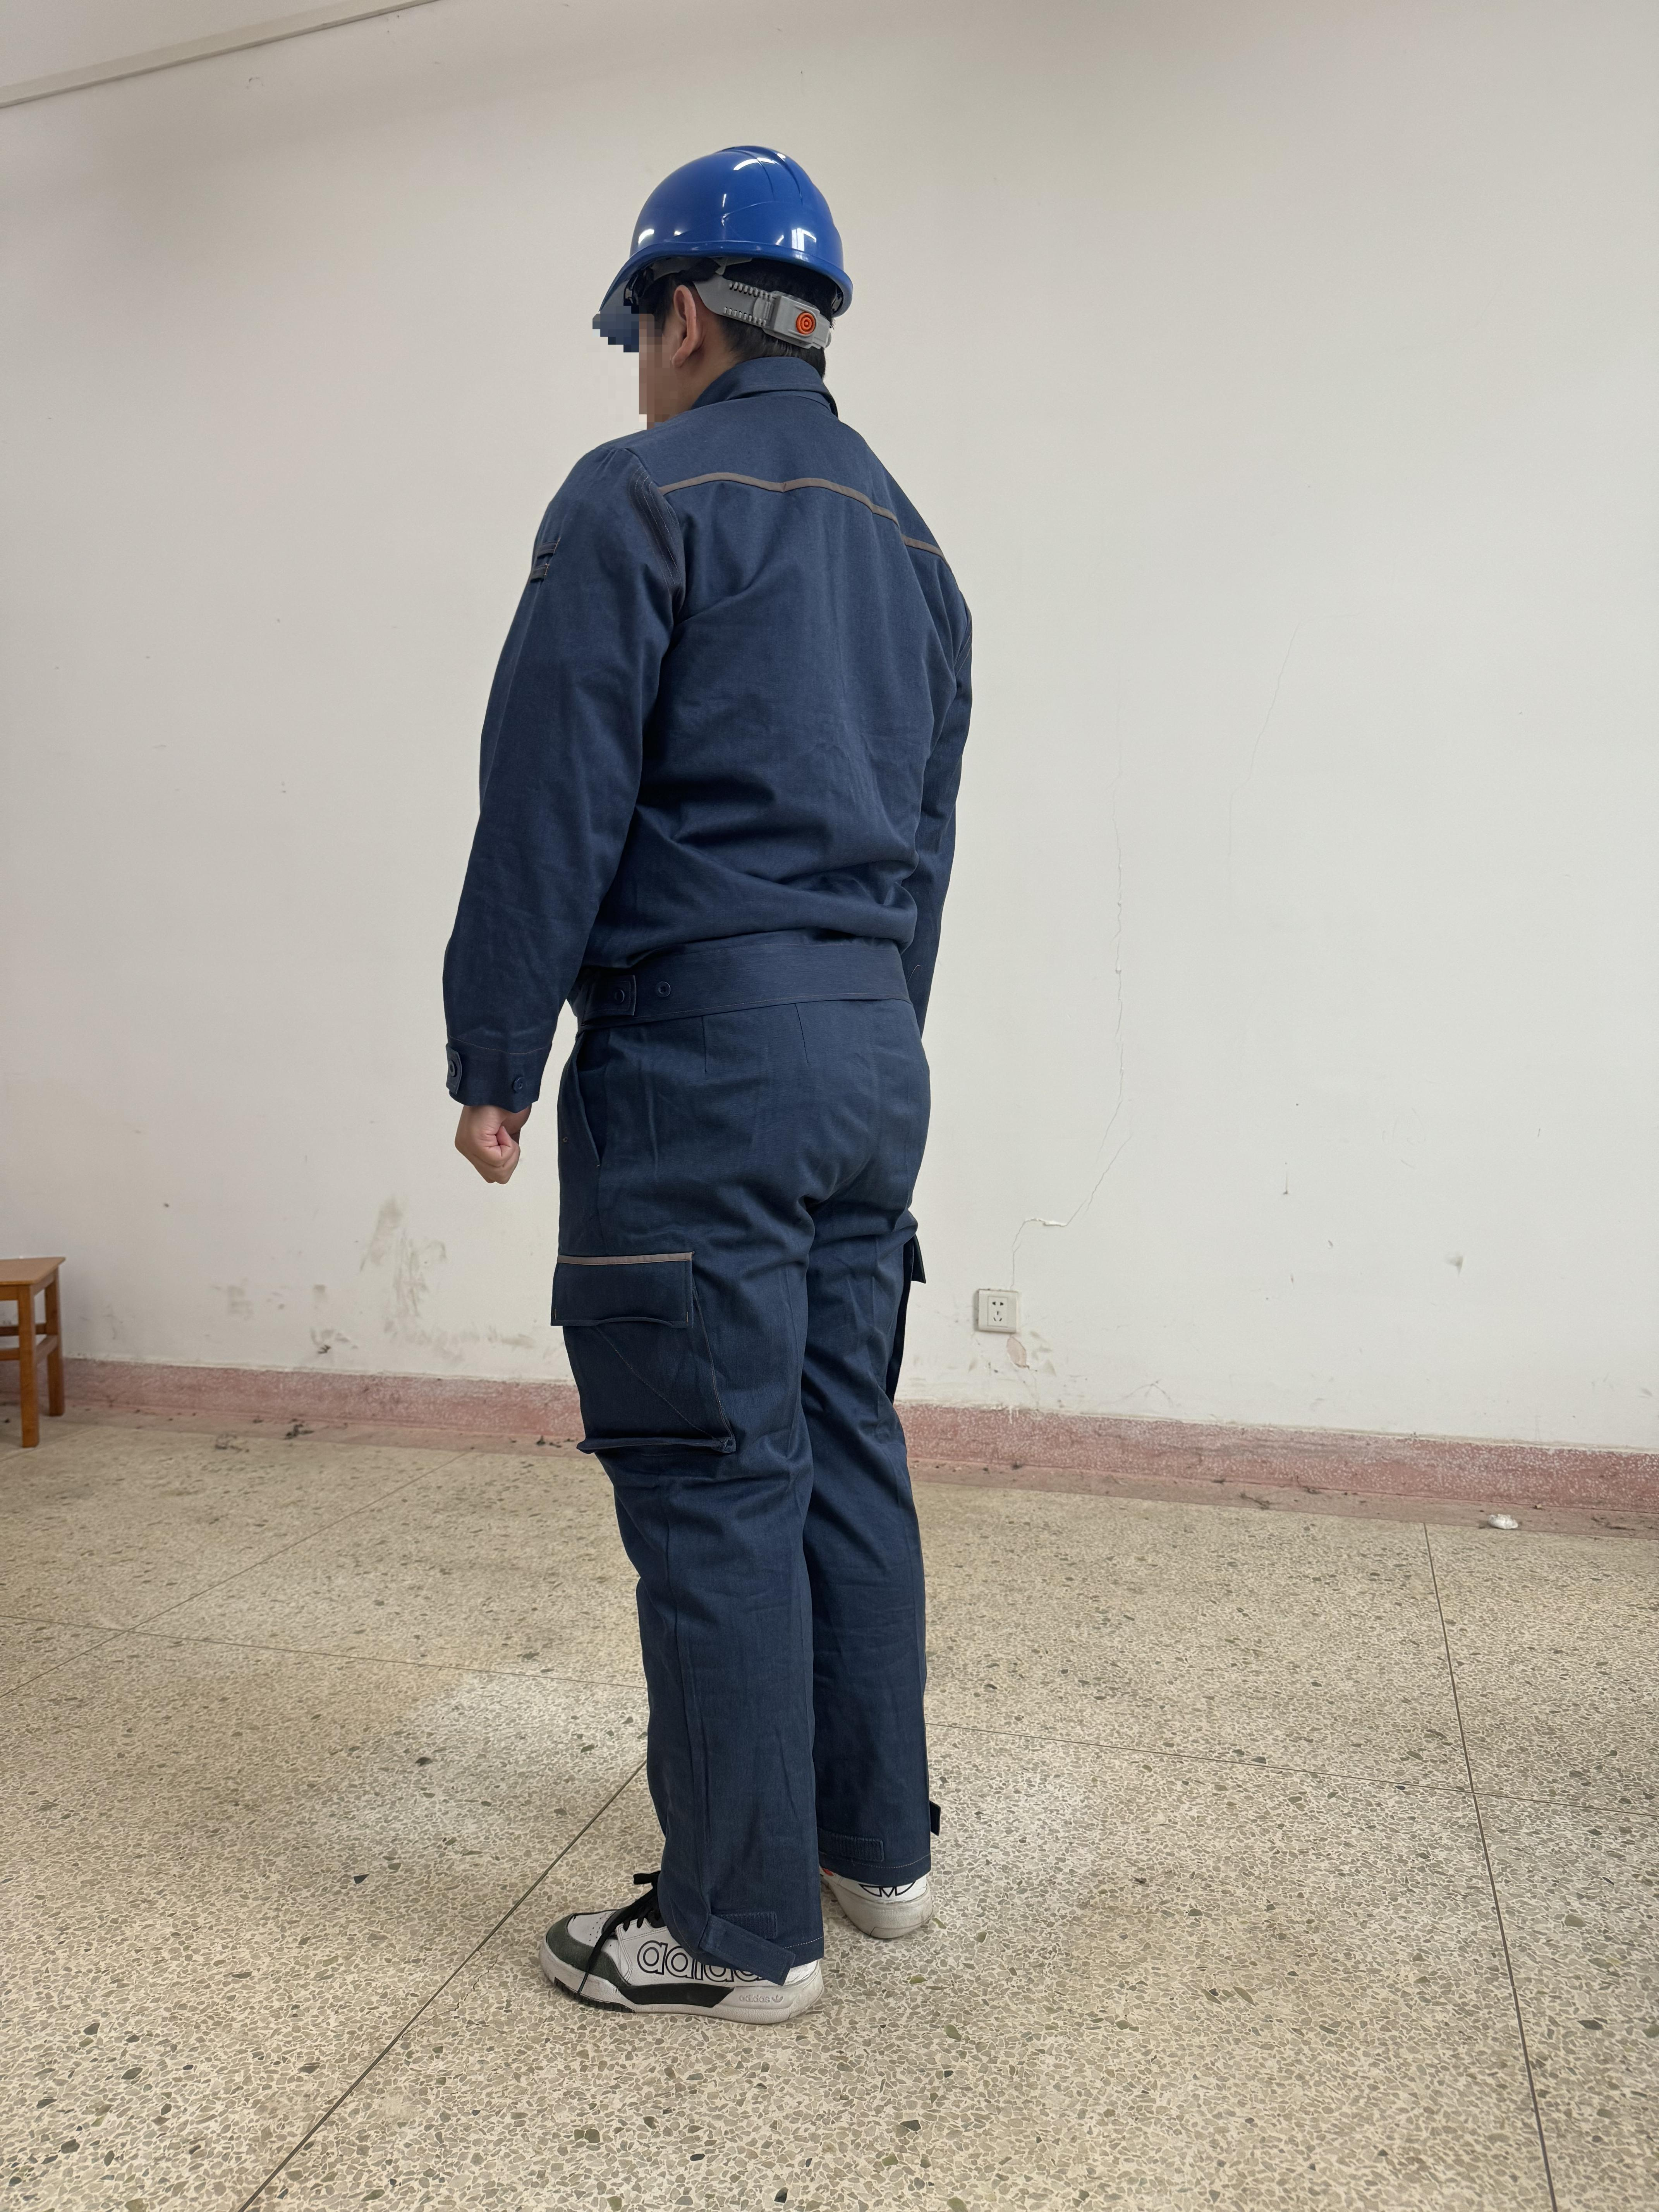halt: (591, 143, 861, 408)
noear: (655, 277, 718, 388)
